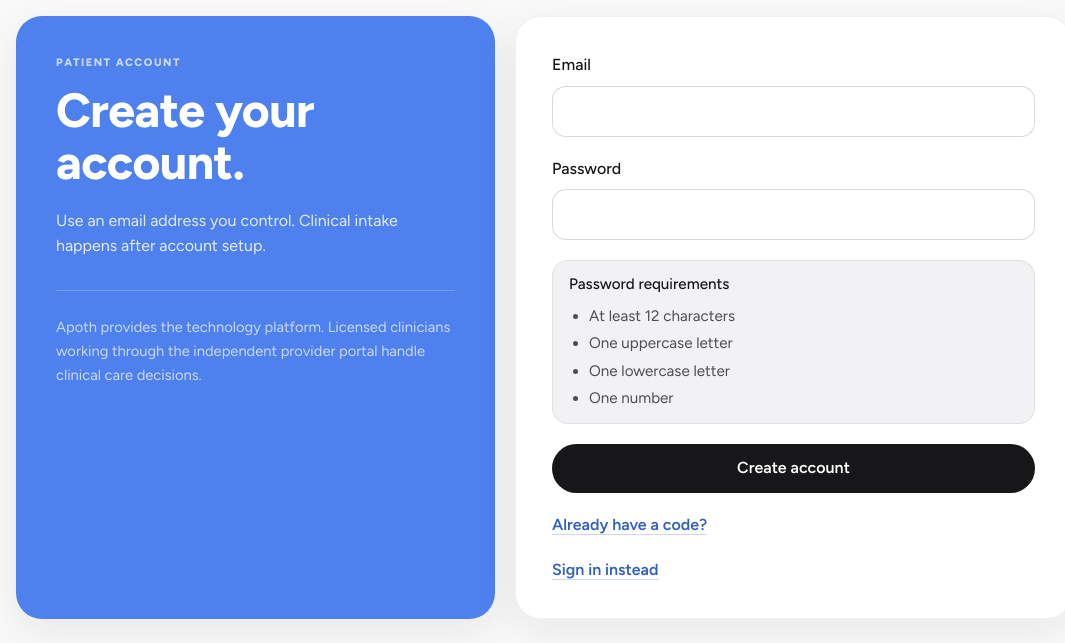
Test case: AuthPanel › submits sign-up without clinical fields and continues to verification
Type "patient@example.com" into the field labelled "Email".
click(794, 111); type("patient@example.com")  # box x1=552 y1=86 x2=1035 y2=137
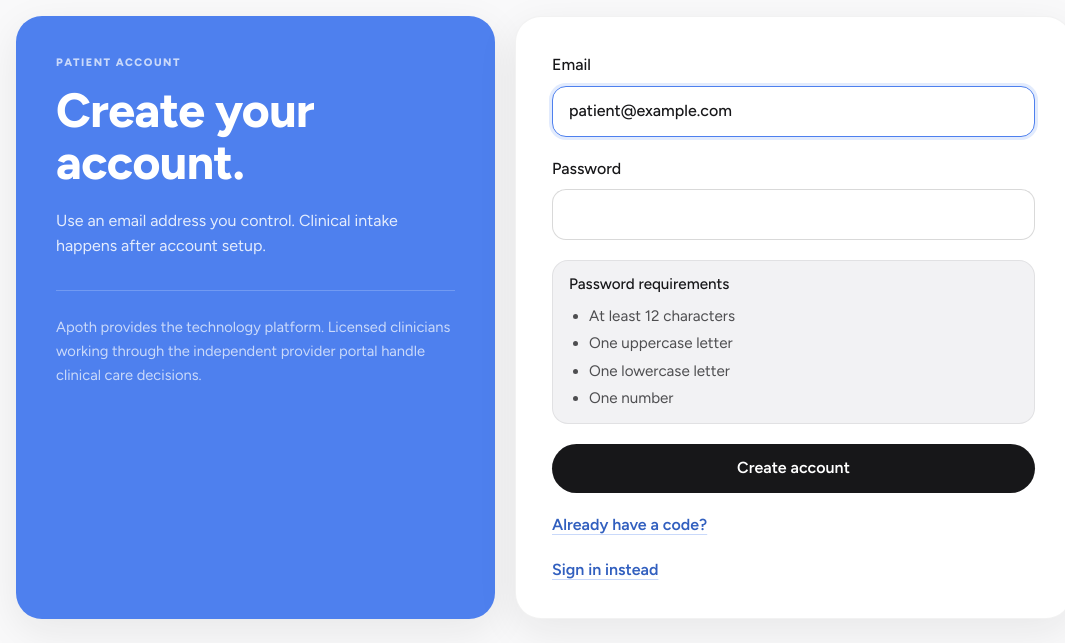
Type "Password12345" into the password field labelled "Password".
click(794, 215); type("Password12345")  # box x1=552 y1=189 x2=1035 y2=240
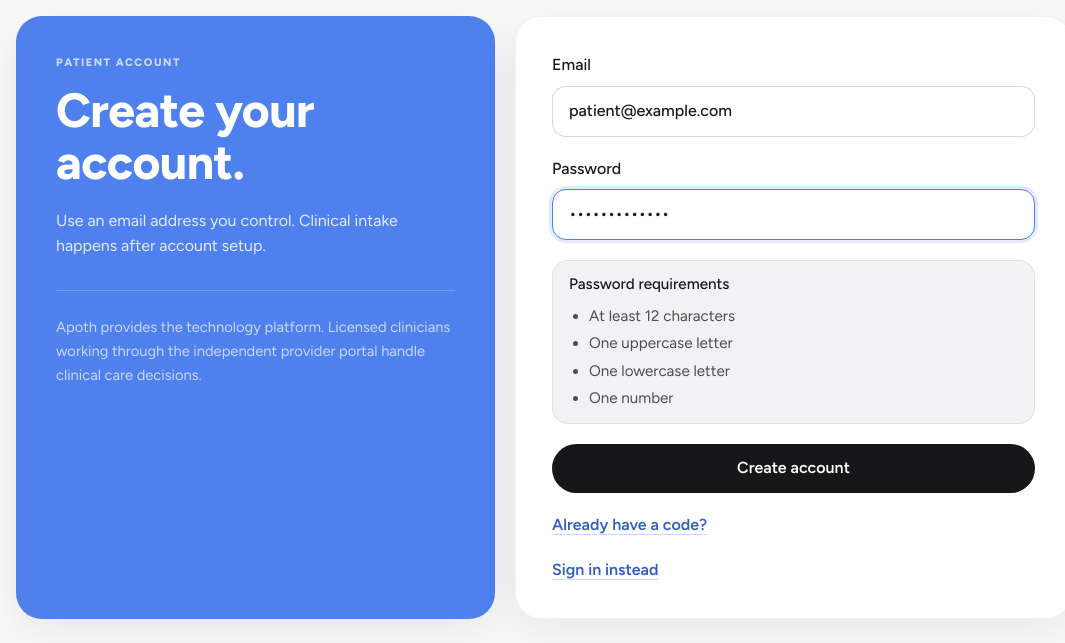
Click the button "Create account".
click(794, 468)  # box x1=552 y1=444 x2=1035 y2=493
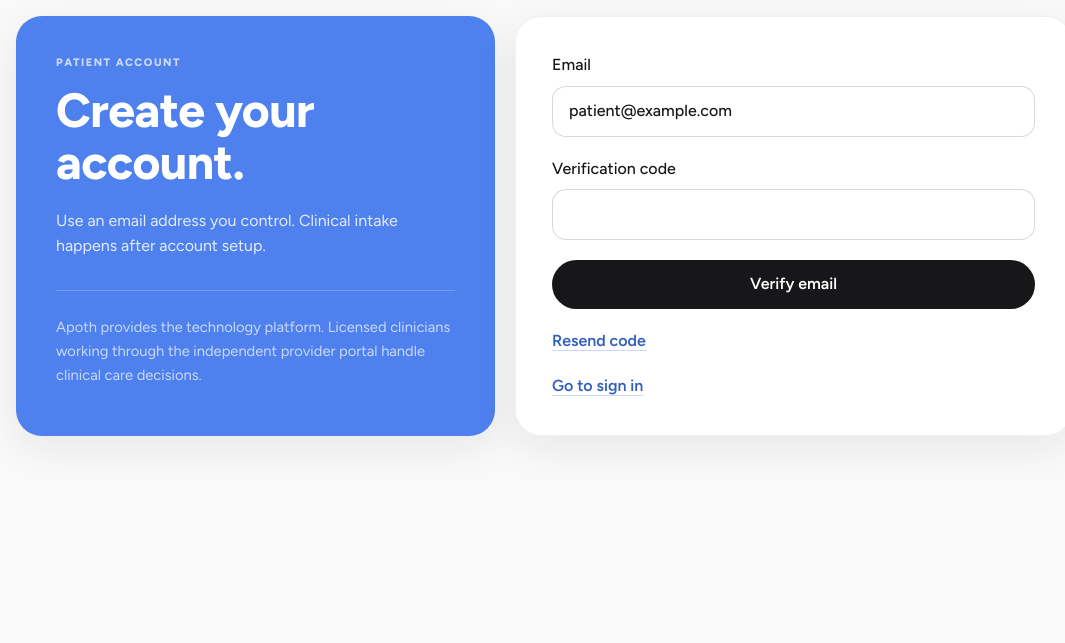
Expected: the field showing "patient@example.com" is shown, x1=552 y1=86 x2=1035 y2=137
Expected: the field labelled "Verification code" is shown, x1=552 y1=189 x2=1035 y2=240
